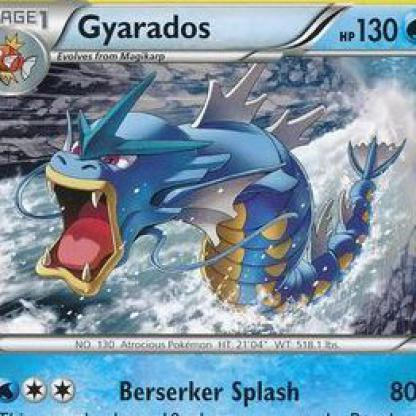Gyarados: (44, 80, 400, 314)
